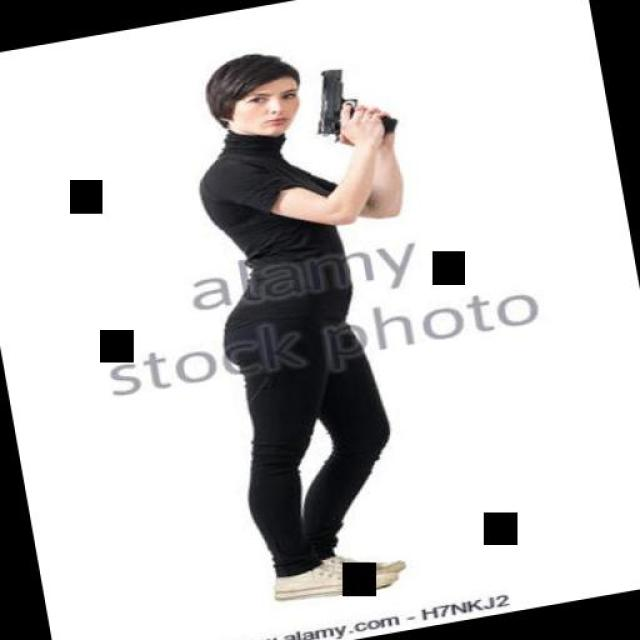gun: (299, 56, 400, 148)
